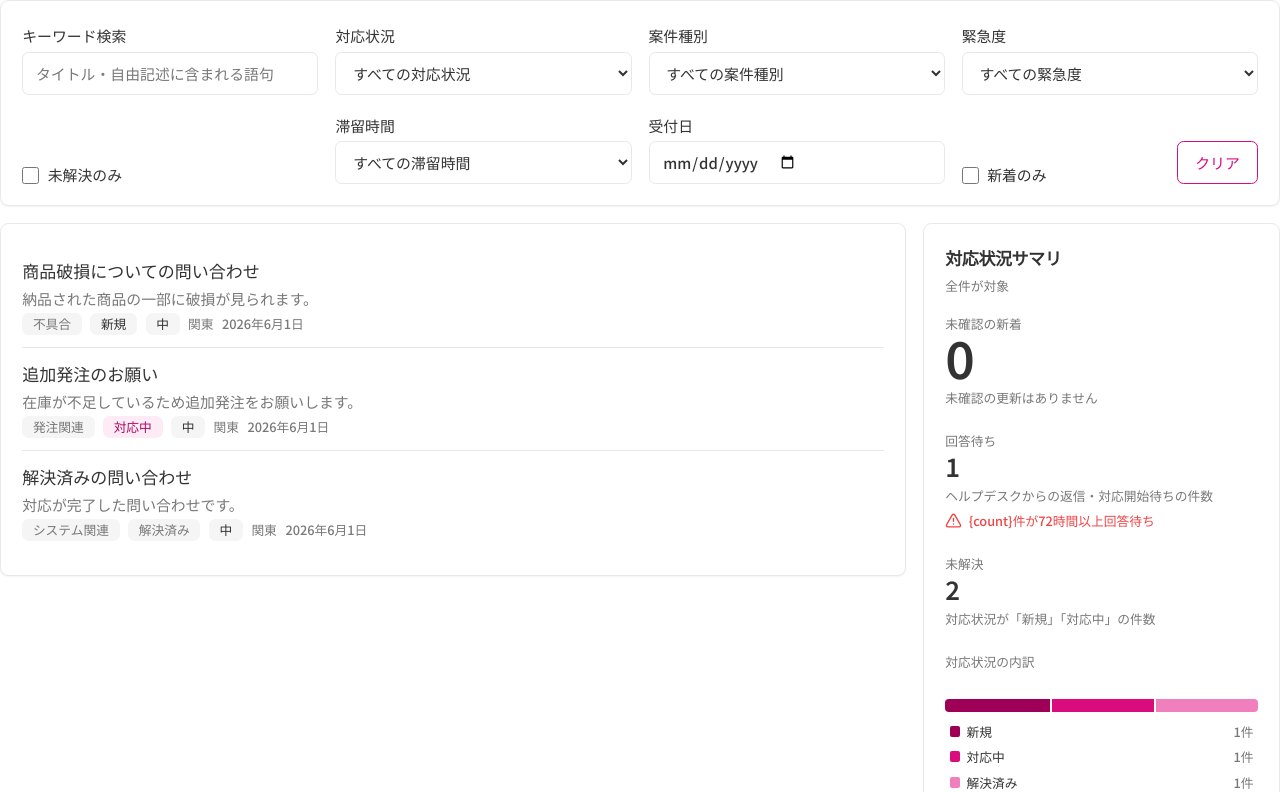
Test: InquiryListClient › 再現シナリオ: 未解決のみOFFの状態で滞留時間を選ぶと、未解決のみが自動的にONになる
This screenshot has width=1280, height=792.
Select "24時間以上経過" in the dropdown labelled "滞留時間" at (483, 163), box [335,141,632,184]
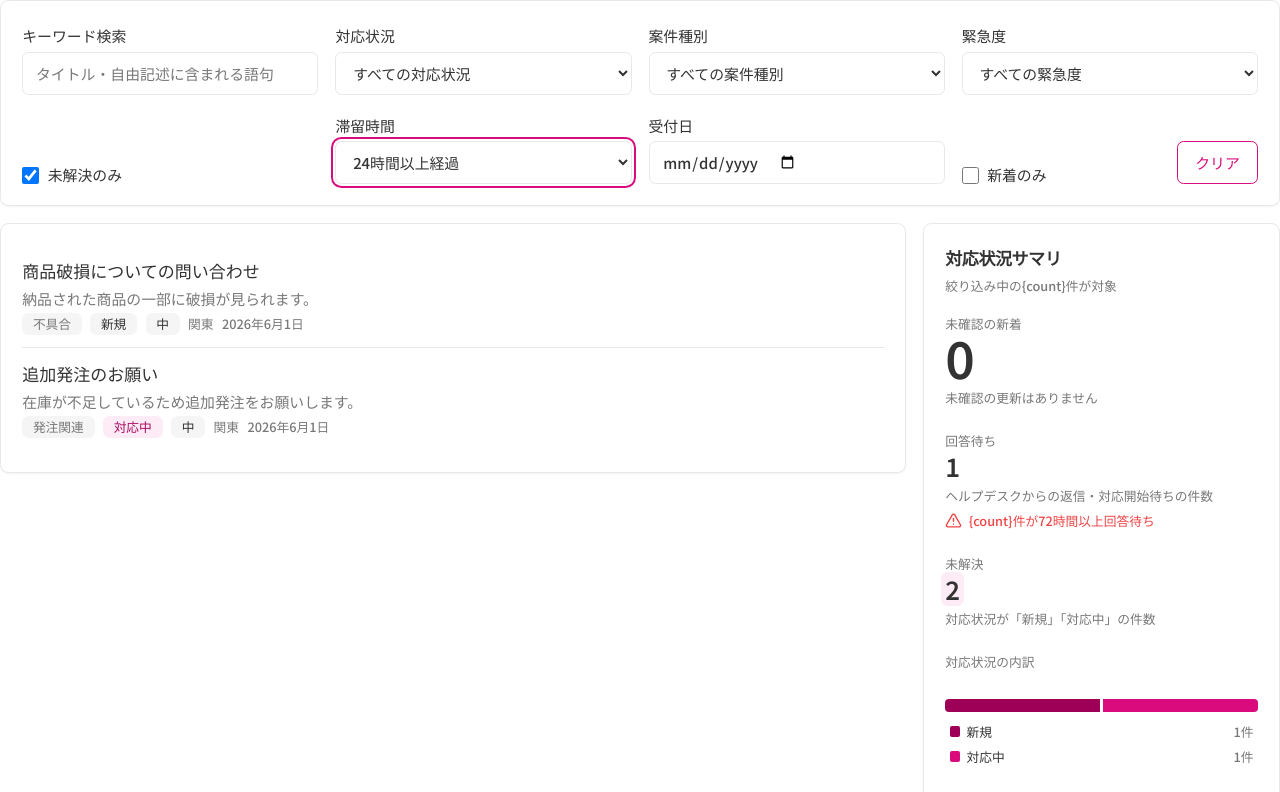
Result: the checkbox labelled "未解決のみ" is checked at [22,167,39,184]
